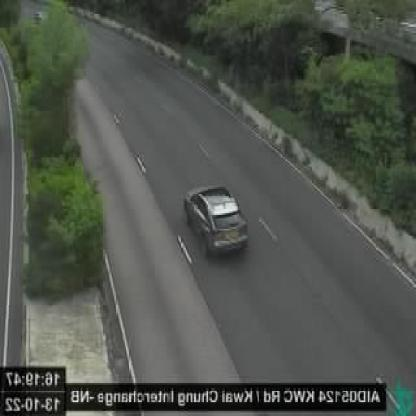Car: (184, 182, 248, 263)
